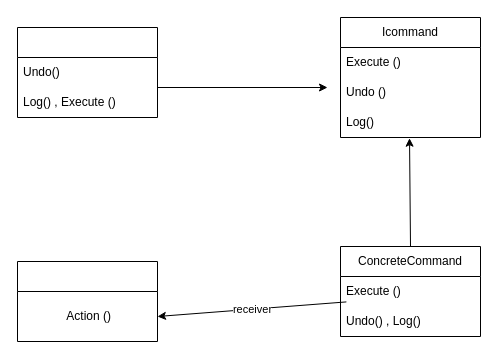
This 498x359 diagram has some shape labels left out. Here are the shapes that lost their labels. From the top down, the box of each, then its label:
(16, 26, 158, 118): CommandRevoker
(16, 260, 158, 342): File
